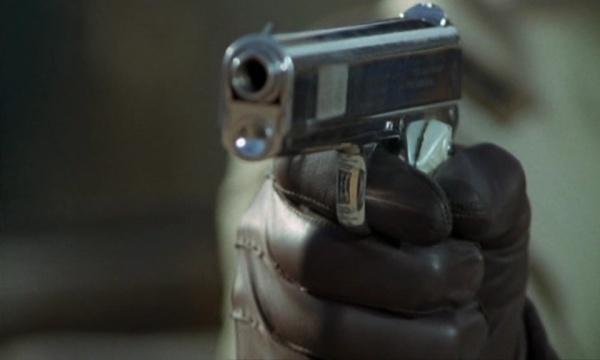Gun: (223, 3, 456, 177)
